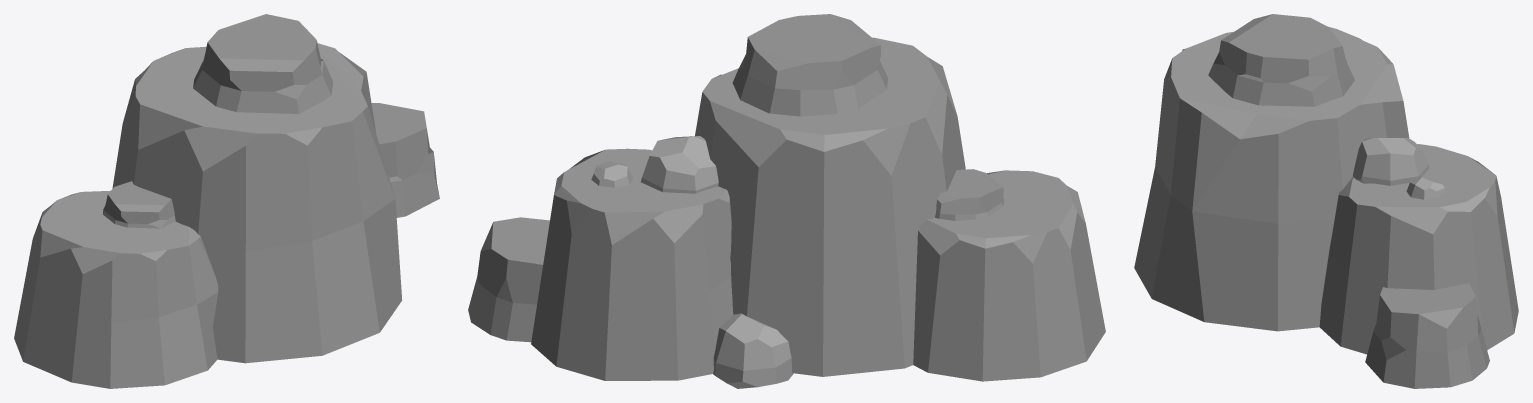
File: Mountain1.fbx
The picture shows the model from 3 angles, left to right: view 1: azimuth 30°, elevation 25°; view 2: azimuth 150°, elevation 25°; view 3: azimuth 270°, elevation 25°; orthographic projection. The views are drawn at different scales.
Visible parts, largest first — view 1: Circle.011, Circle.013, Circle.021, Circle.023, Circle.020, Circle.012; view 2: Circle.011, Circle.012, Circle.013, Circle.021, Circle.023, Cube.127, Cube.128, Circle.020, Cube.129; view 3: Circle.011, Circle.012, Circle.023, Circle.021, Cube.128, Cube.129.
Boxes of the visible parts, box(x1,y1,x2,y2) form: Circle.011: box(112, 46, 402, 363); Circle.013: box(14, 190, 218, 388); Circle.021: box(193, 14, 333, 114); Circle.023: box(371, 103, 439, 217); Circle.020: box(102, 181, 175, 228); Circle.012: box(317, 43, 376, 133); Circle.011: box(695, 37, 965, 376); Circle.012: box(531, 148, 733, 380); Circle.013: box(913, 170, 1105, 381); Circle.021: box(732, 14, 888, 116); Circle.023: box(468, 217, 549, 342); Cube.127: box(713, 313, 793, 388); Cube.128: box(641, 136, 718, 193); Circle.020: box(935, 169, 1004, 220); Cube.129: box(591, 161, 633, 187); Circle.011: box(1134, 27, 1409, 331); Circle.012: box(1319, 144, 1518, 354); Circle.023: box(1365, 283, 1489, 388); Circle.021: box(1208, 14, 1354, 106); Cube.128: box(1353, 137, 1429, 185); Cube.129: box(1406, 176, 1445, 199).
Bounding box in the file's own units: 29.85 × 21.18 × 15.58.
